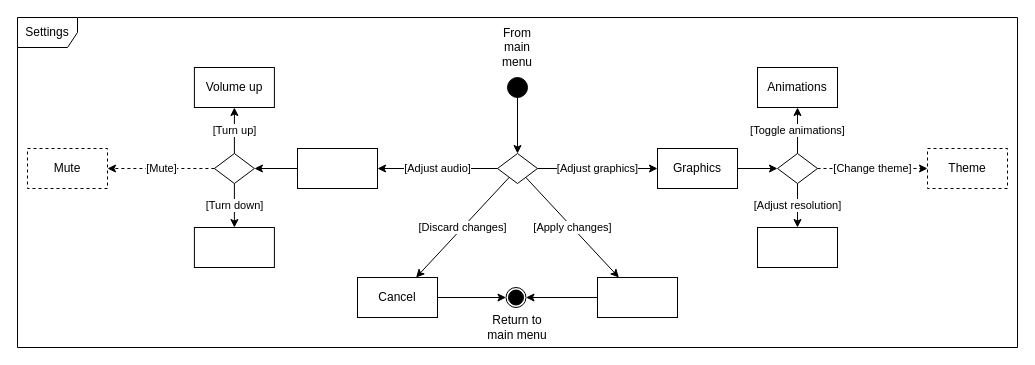
This 1035x365 diagram has some shape labels left out. The shapes that lost their labels are listed below. From the top down, each one's box as (x1, y1, x2, y2) in pixels, then its label:
(296, 148, 378, 188): Audio
(193, 226, 274, 268): Volume down
(756, 226, 838, 268): Resolution
(596, 276, 678, 318): Apply
